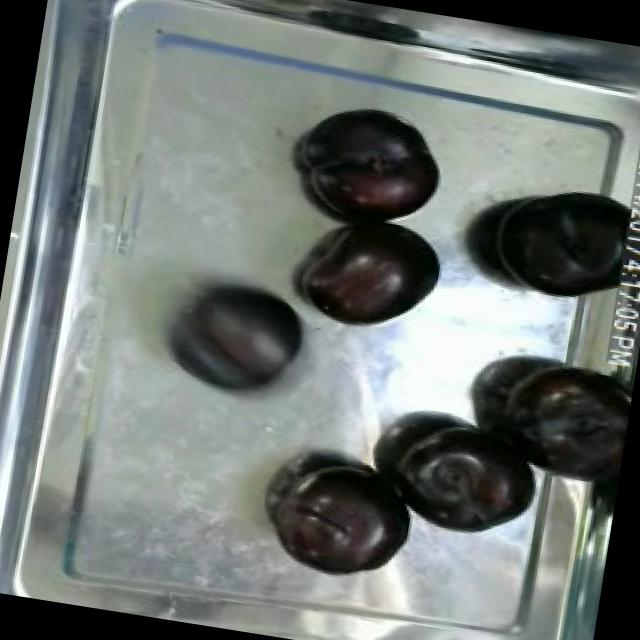Fruit: (256, 448, 427, 591), (289, 207, 458, 349), (473, 171, 639, 315), (385, 406, 551, 550), (292, 92, 456, 231), (164, 268, 317, 408), (508, 355, 636, 498)
